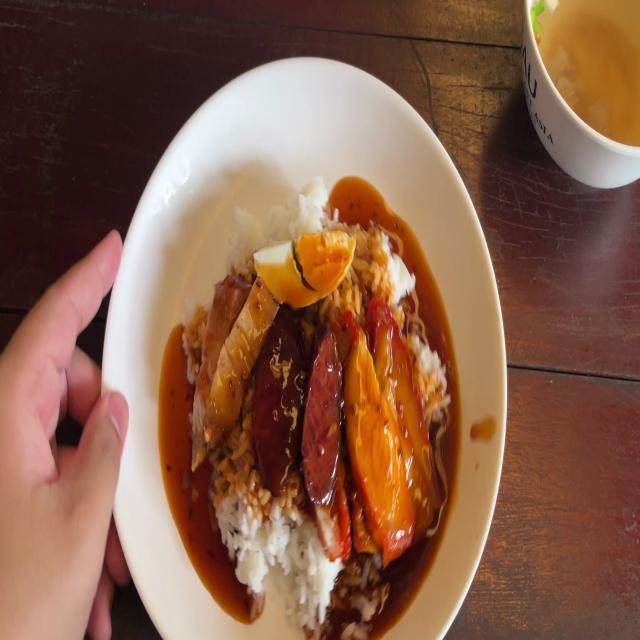red_pork_and_crispy_pork: (256, 233, 351, 303)
stir_fried_basil: (256, 325, 344, 495)
